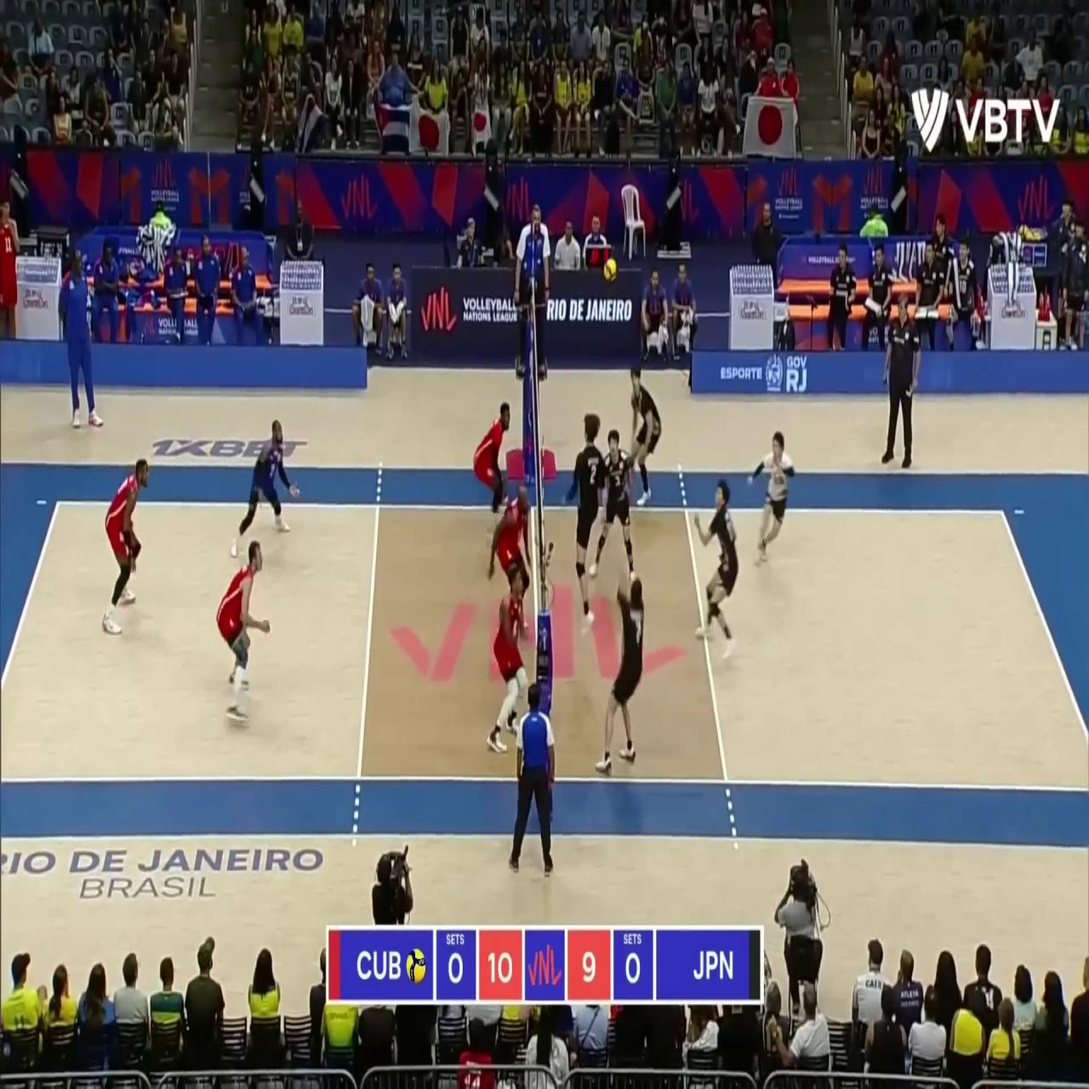ball: (603, 259, 617, 284)
